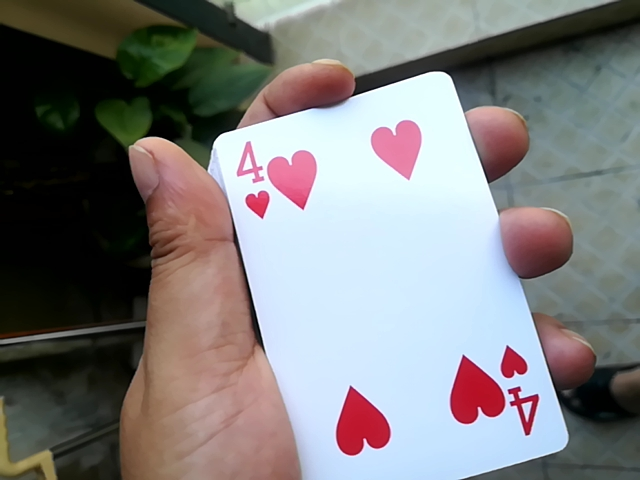hx 4: (206, 69, 563, 480)
